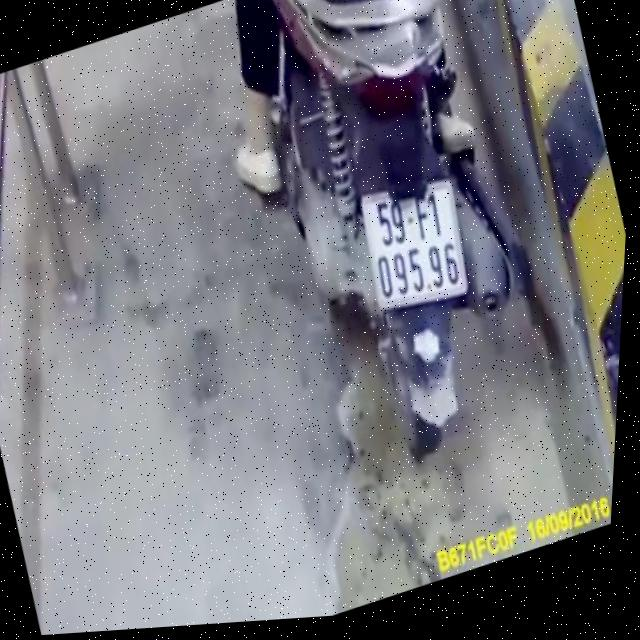motorcycle: (218, 0, 598, 510)
plate: (336, 156, 487, 330)
